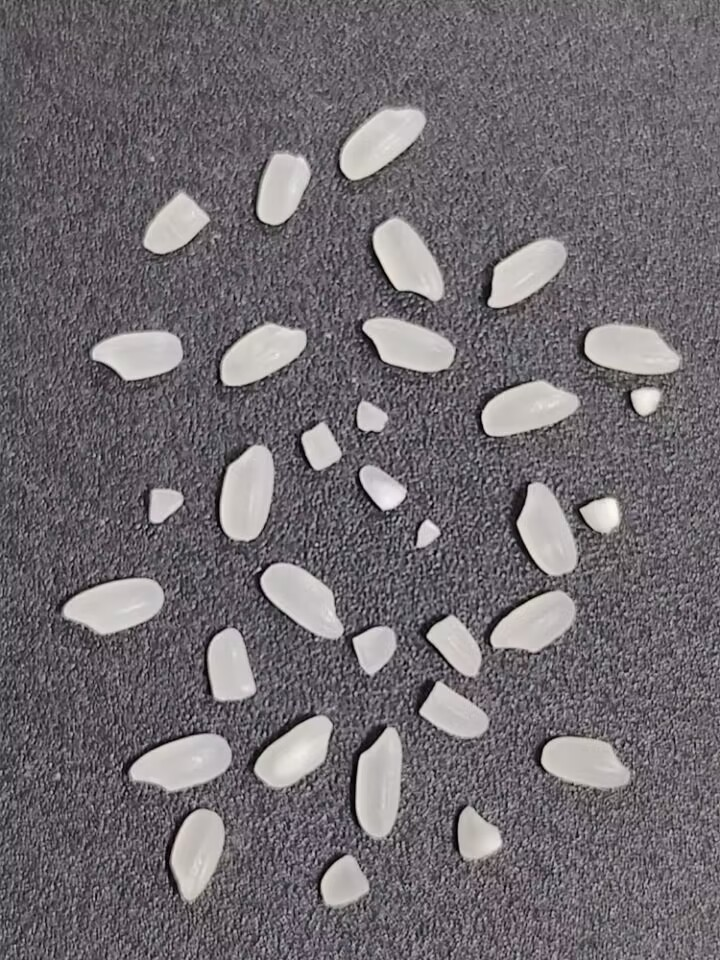broken: (138, 186, 215, 259), (414, 678, 495, 743), (418, 610, 486, 682), (251, 150, 312, 230), (206, 627, 258, 704), (353, 458, 411, 513), (348, 620, 402, 678), (317, 853, 370, 908), (453, 805, 503, 862), (298, 419, 344, 472), (142, 482, 189, 529), (351, 397, 392, 435), (580, 498, 620, 534), (409, 516, 444, 550), (630, 387, 661, 415)
rice: (256, 561, 347, 643), (218, 317, 315, 393), (336, 102, 429, 181), (250, 710, 339, 792), (348, 722, 405, 844), (512, 477, 579, 579), (369, 215, 445, 302), (214, 441, 277, 544), (124, 734, 233, 793), (358, 314, 461, 376), (474, 378, 583, 436), (84, 328, 191, 387), (485, 235, 566, 312), (486, 589, 582, 653), (60, 576, 164, 633), (167, 806, 226, 904), (584, 320, 680, 378), (541, 734, 633, 790)
